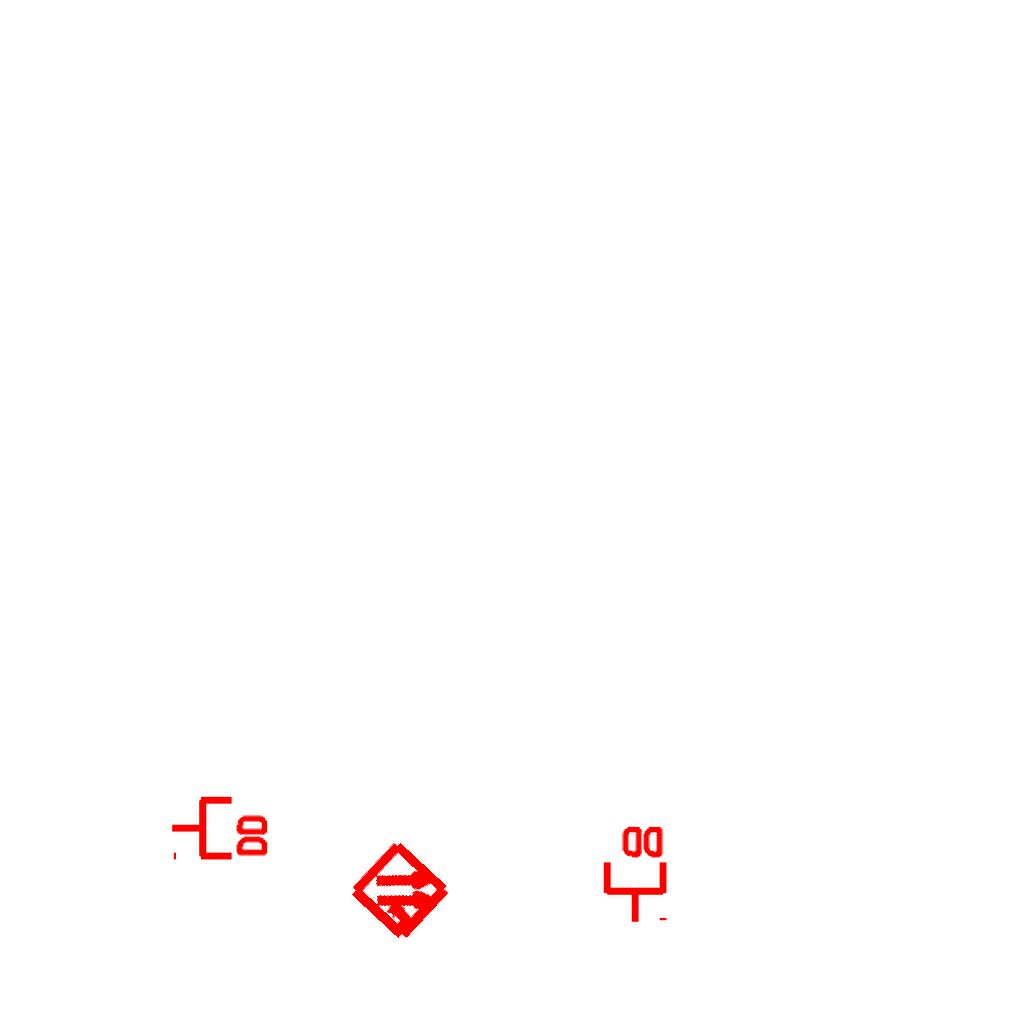Datenanschluss_zweifach: (599, 822, 668, 925), (169, 792, 272, 861)
OT_Multisensormelder_(Kombination_RMO_WMD): (321, 812, 482, 973)
